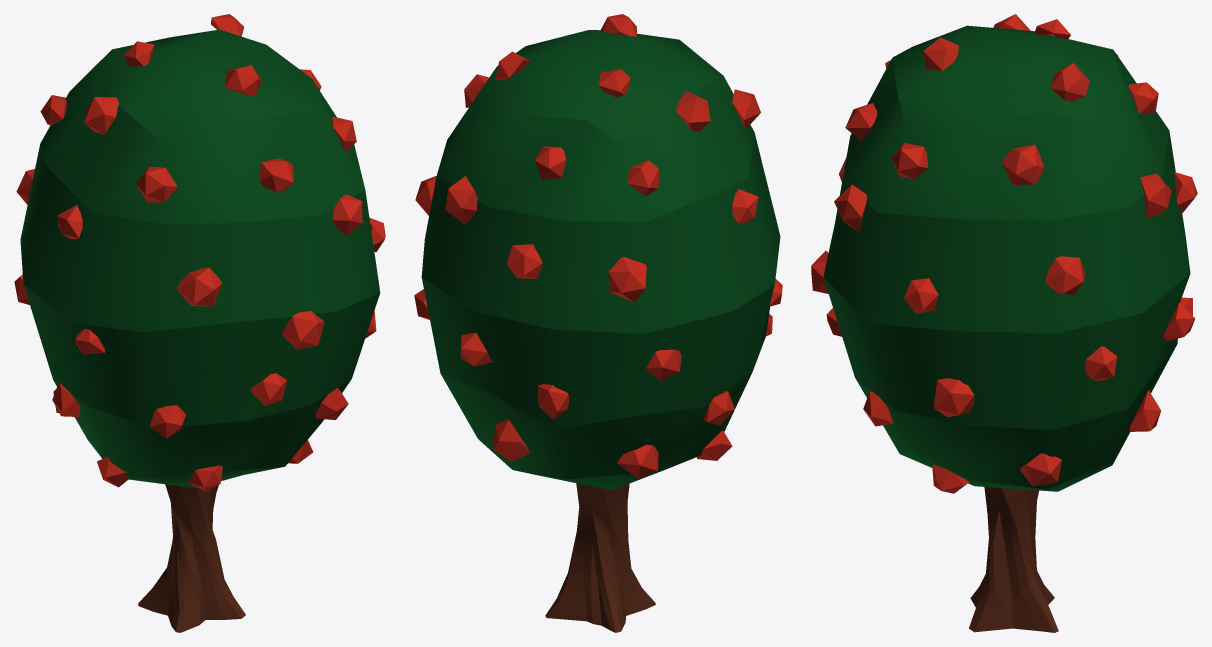
Rendered from Tree_2_Low_WF.fbx.
The picture shows the model from 3 angles, left to right: view 1: azimuth 30°, elevation 25°; view 2: azimuth 150°, elevation 25°; view 3: azimuth 270°, elevation 25°; orthographic projection. The views are drawn at different scales.
Parts seen in each view (by area): view 1: Tree_2_Low_WF; view 2: Tree_2_Low_WF; view 3: Tree_2_Low_WF.
Boxes of the visible parts, x1,y1,x2,y2 form: Tree_2_Low_WF: (14, 14, 385, 632); Tree_2_Low_WF: (414, 14, 782, 632); Tree_2_Low_WF: (811, 14, 1197, 632).
Size of the model in its own units: 107 by 188 by 113.
